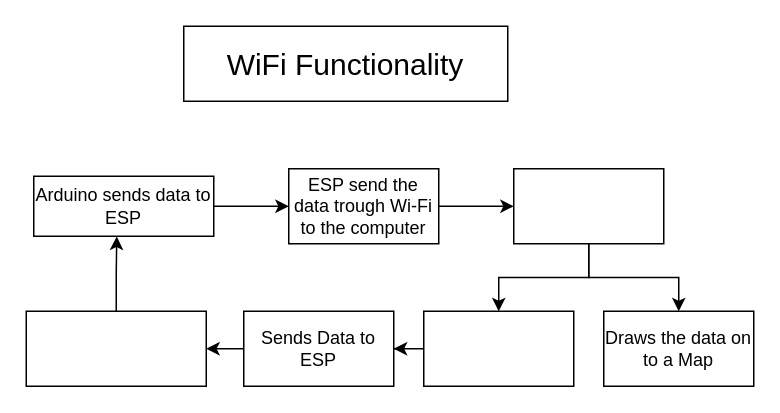
The diagram is 780 pixels wide and 413 high, and some of its shapes have lost their labels. The centre of each missing label's shape, as x and y in pixels:
Arduino Reads data and acts acordingly: the point at 115,348
Computer Receives the data: the point at 588,205
Decides the Car's next move: the point at 498,348
